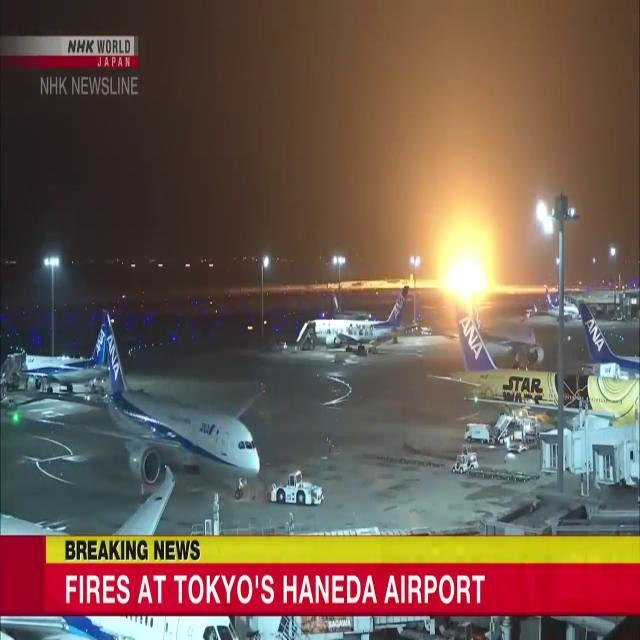Fire: (418, 180, 510, 318)
